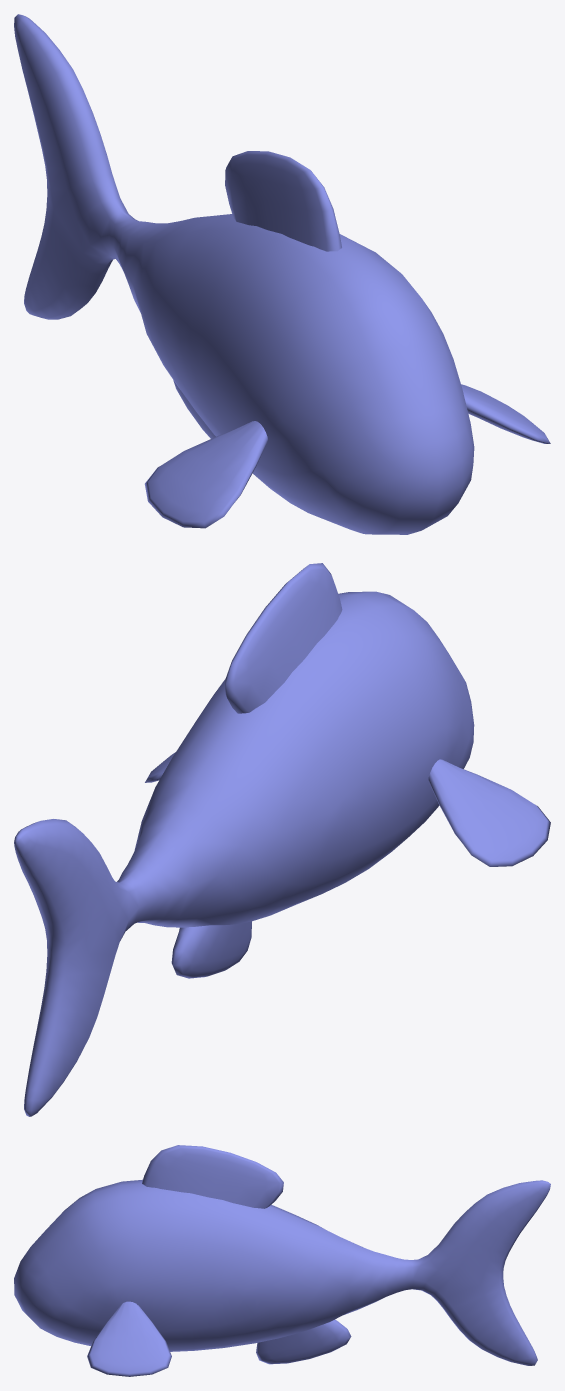
Rendered from fish.glb.
3 renders of one model, top to bottom at view 1: azimuth 30°, elevation 25°; view 2: azimuth 150°, elevation 25°; view 3: azimuth 270°, elevation 25°, orthographic. The views are drawn at different scales.
Visible parts, largest first — view 1: mesh_id27; view 2: mesh_id27; view 3: mesh_id27.
Boxes of the visible parts, x1,y1,x2,y2 form: mesh_id27: (14, 14, 550, 534); mesh_id27: (14, 563, 550, 1116); mesh_id27: (14, 1145, 550, 1376).
Size of the model in its own units: 0.3284 by 0.2945 by 0.6484.
